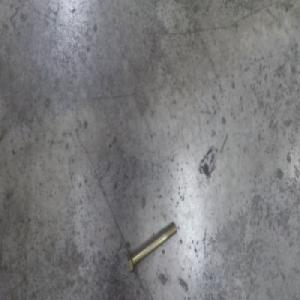Bolt: (125, 220, 175, 278)
